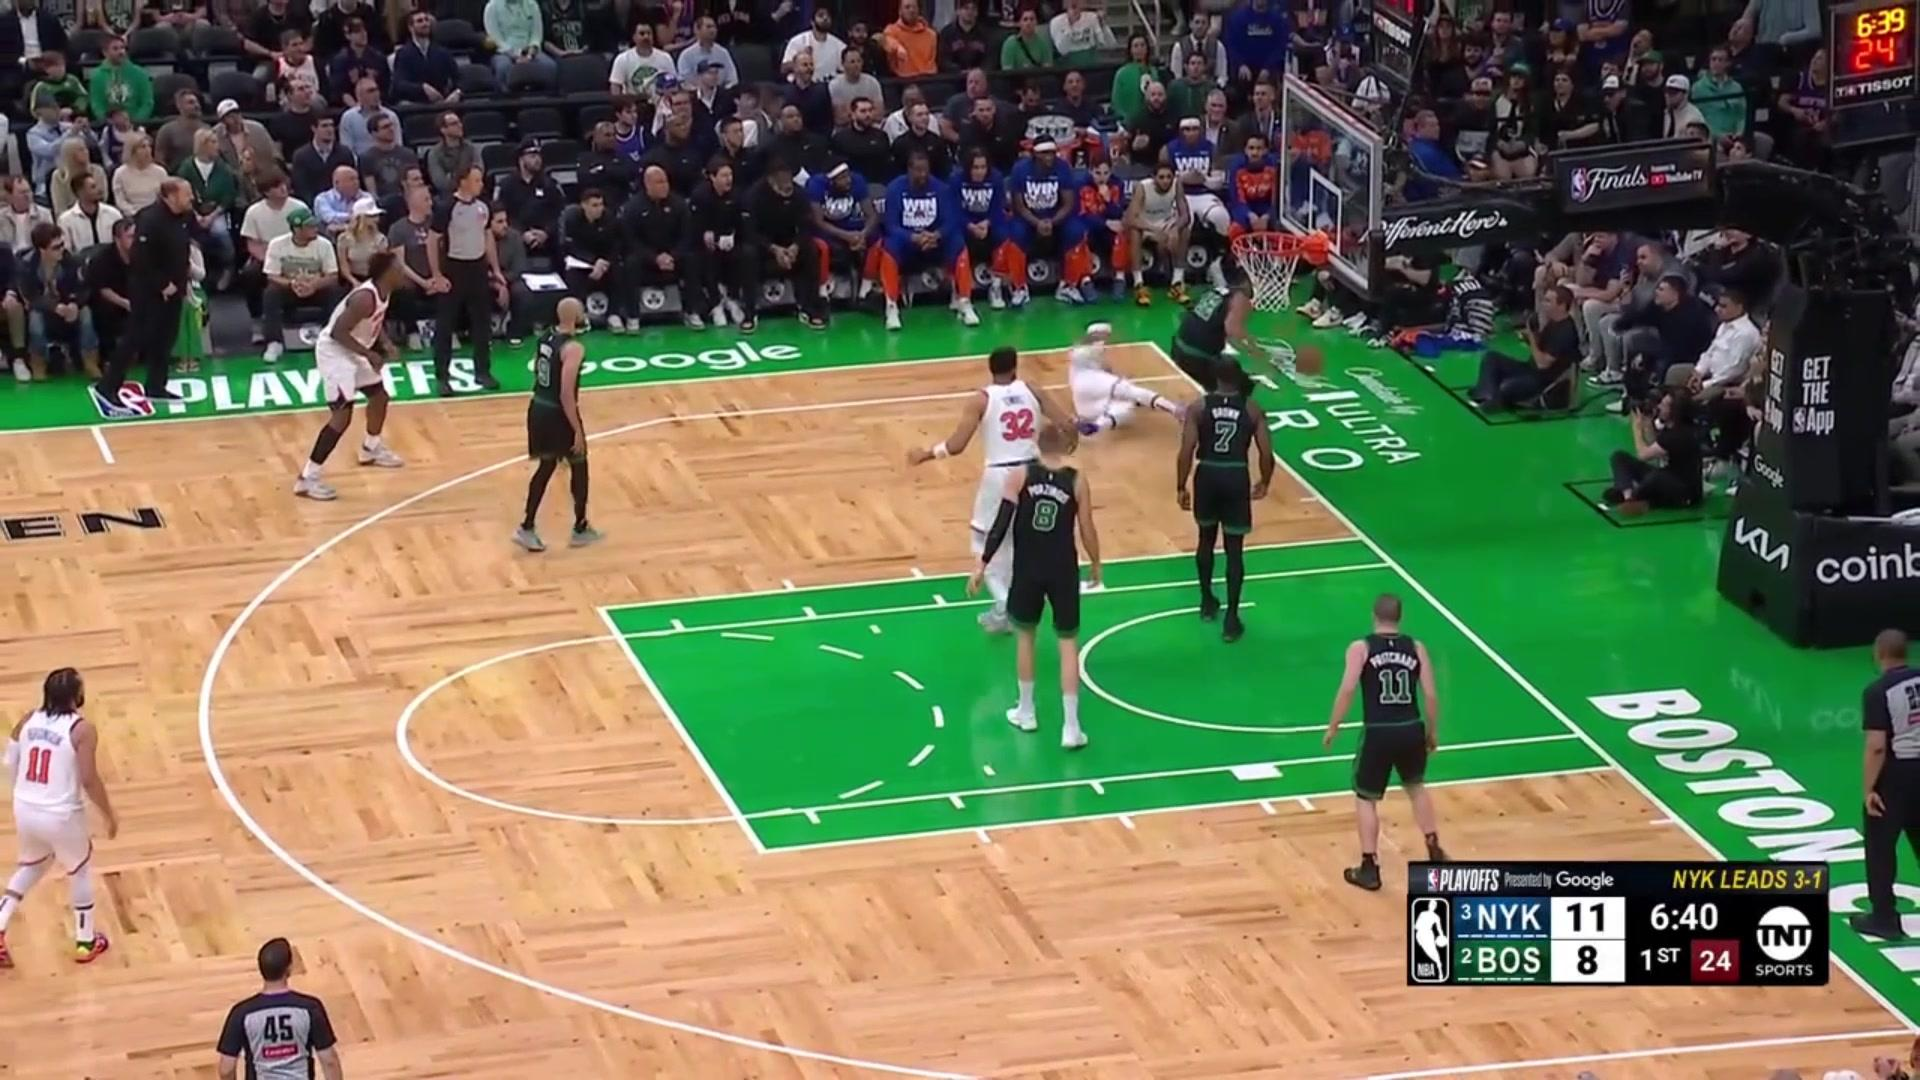foul: (1055, 235, 1291, 447)
